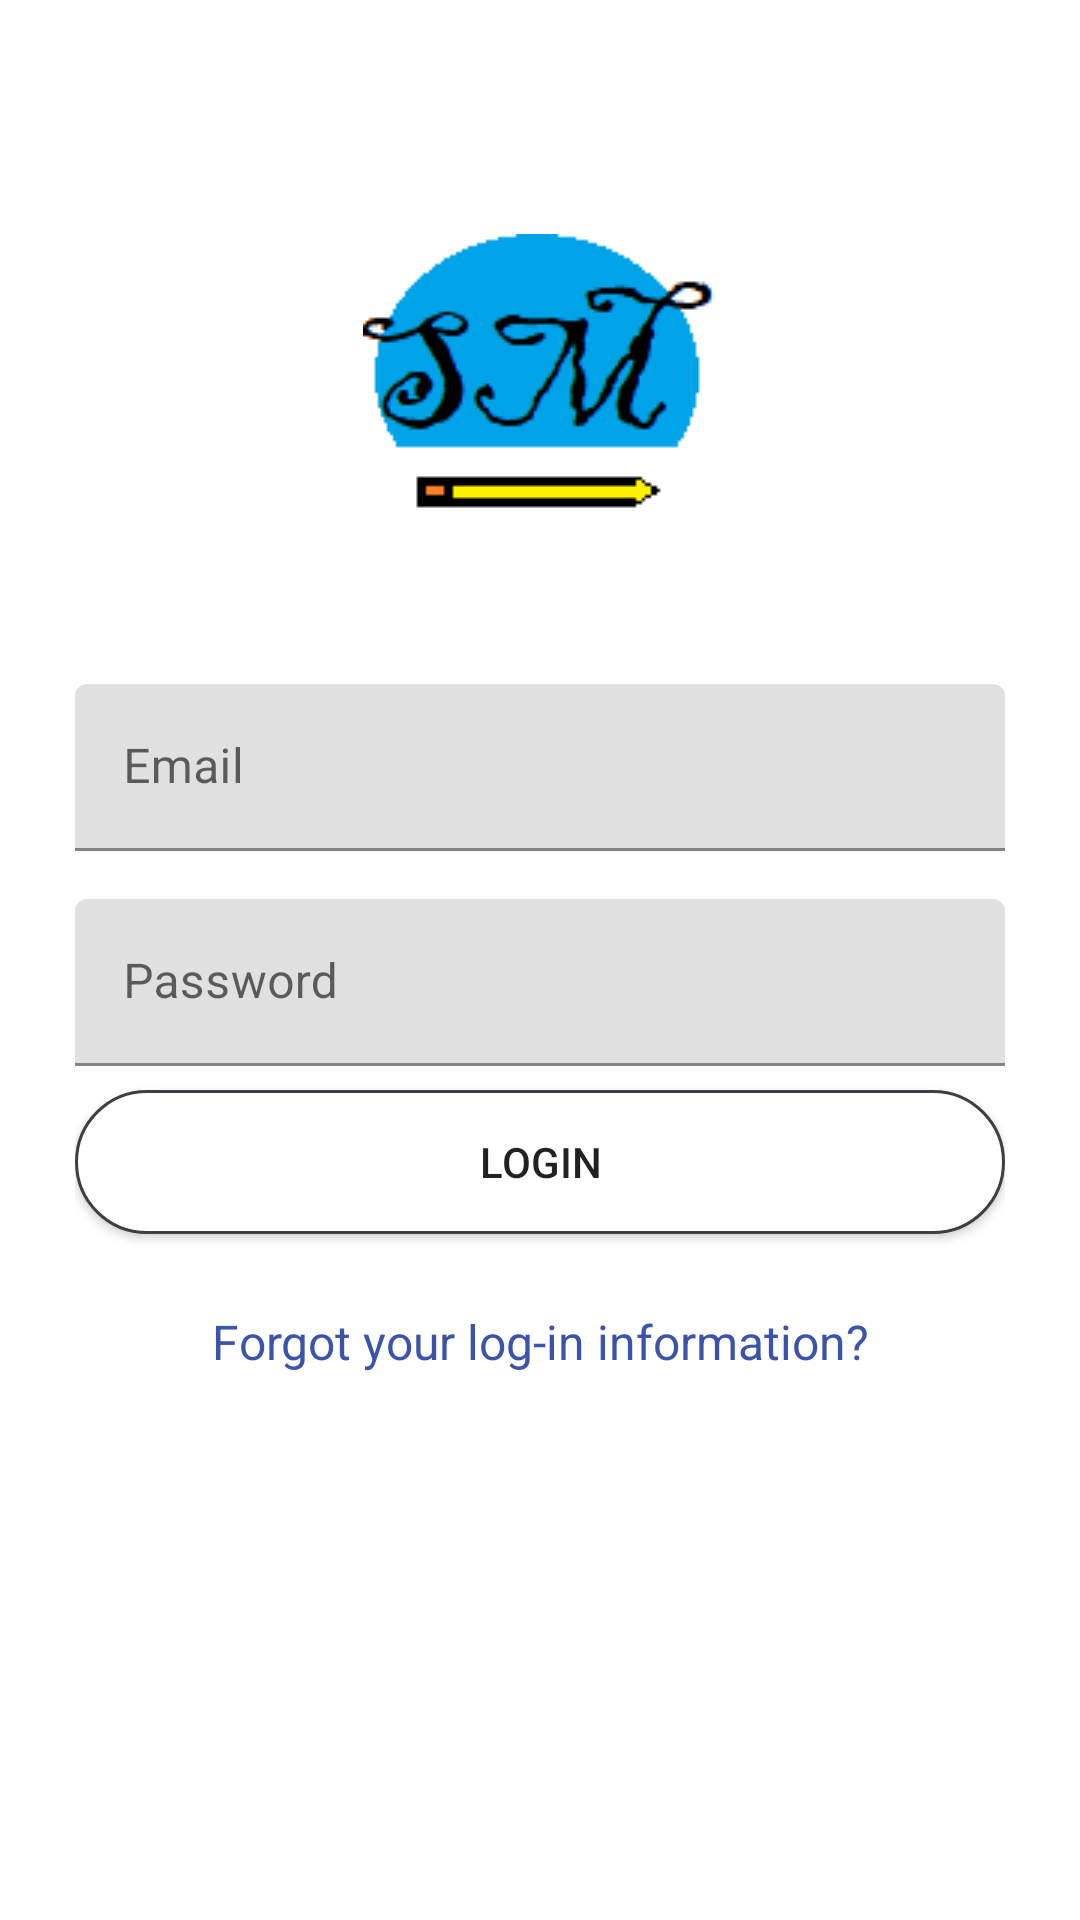

Screen size 1080 x 1920. Icon name, then its box in pixels as detection(x1, y1, x2, y2):
studymate: detection(363, 234, 715, 508)
